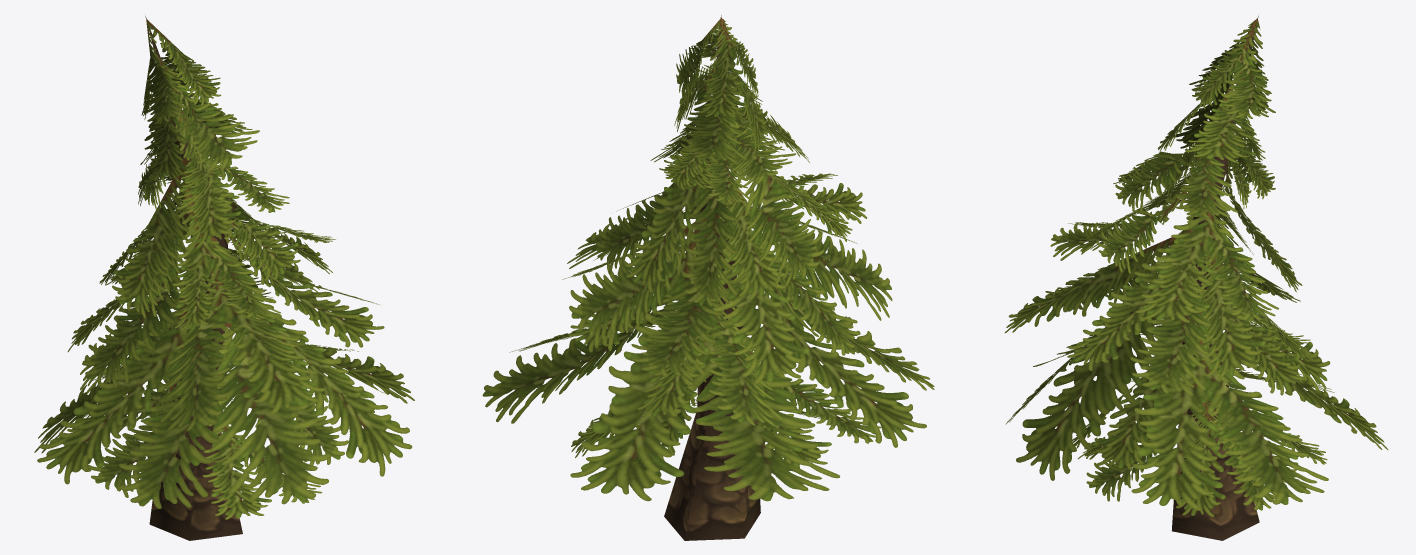
File: tree_conifer_03.fbx
The picture shows the model from 3 angles, left to right: view 1: azimuth 30°, elevation 25°; view 2: azimuth 150°, elevation 25°; view 3: azimuth 270°, elevation 25°; orthographic projection. The views are drawn at different scales.
Parts seen in each view (by area): view 1: tree_conifer_03; view 2: tree_conifer_03; view 3: tree_conifer_03.
Boxes of the visible parts, left/top/right/bottom form: tree_conifer_03: left=34, top=16, right=414, bottom=540; tree_conifer_03: left=482, top=15, right=934, bottom=540; tree_conifer_03: left=1005, top=16, right=1388, bottom=540.
Size of the model in its own units: 474 by 586 by 451.
